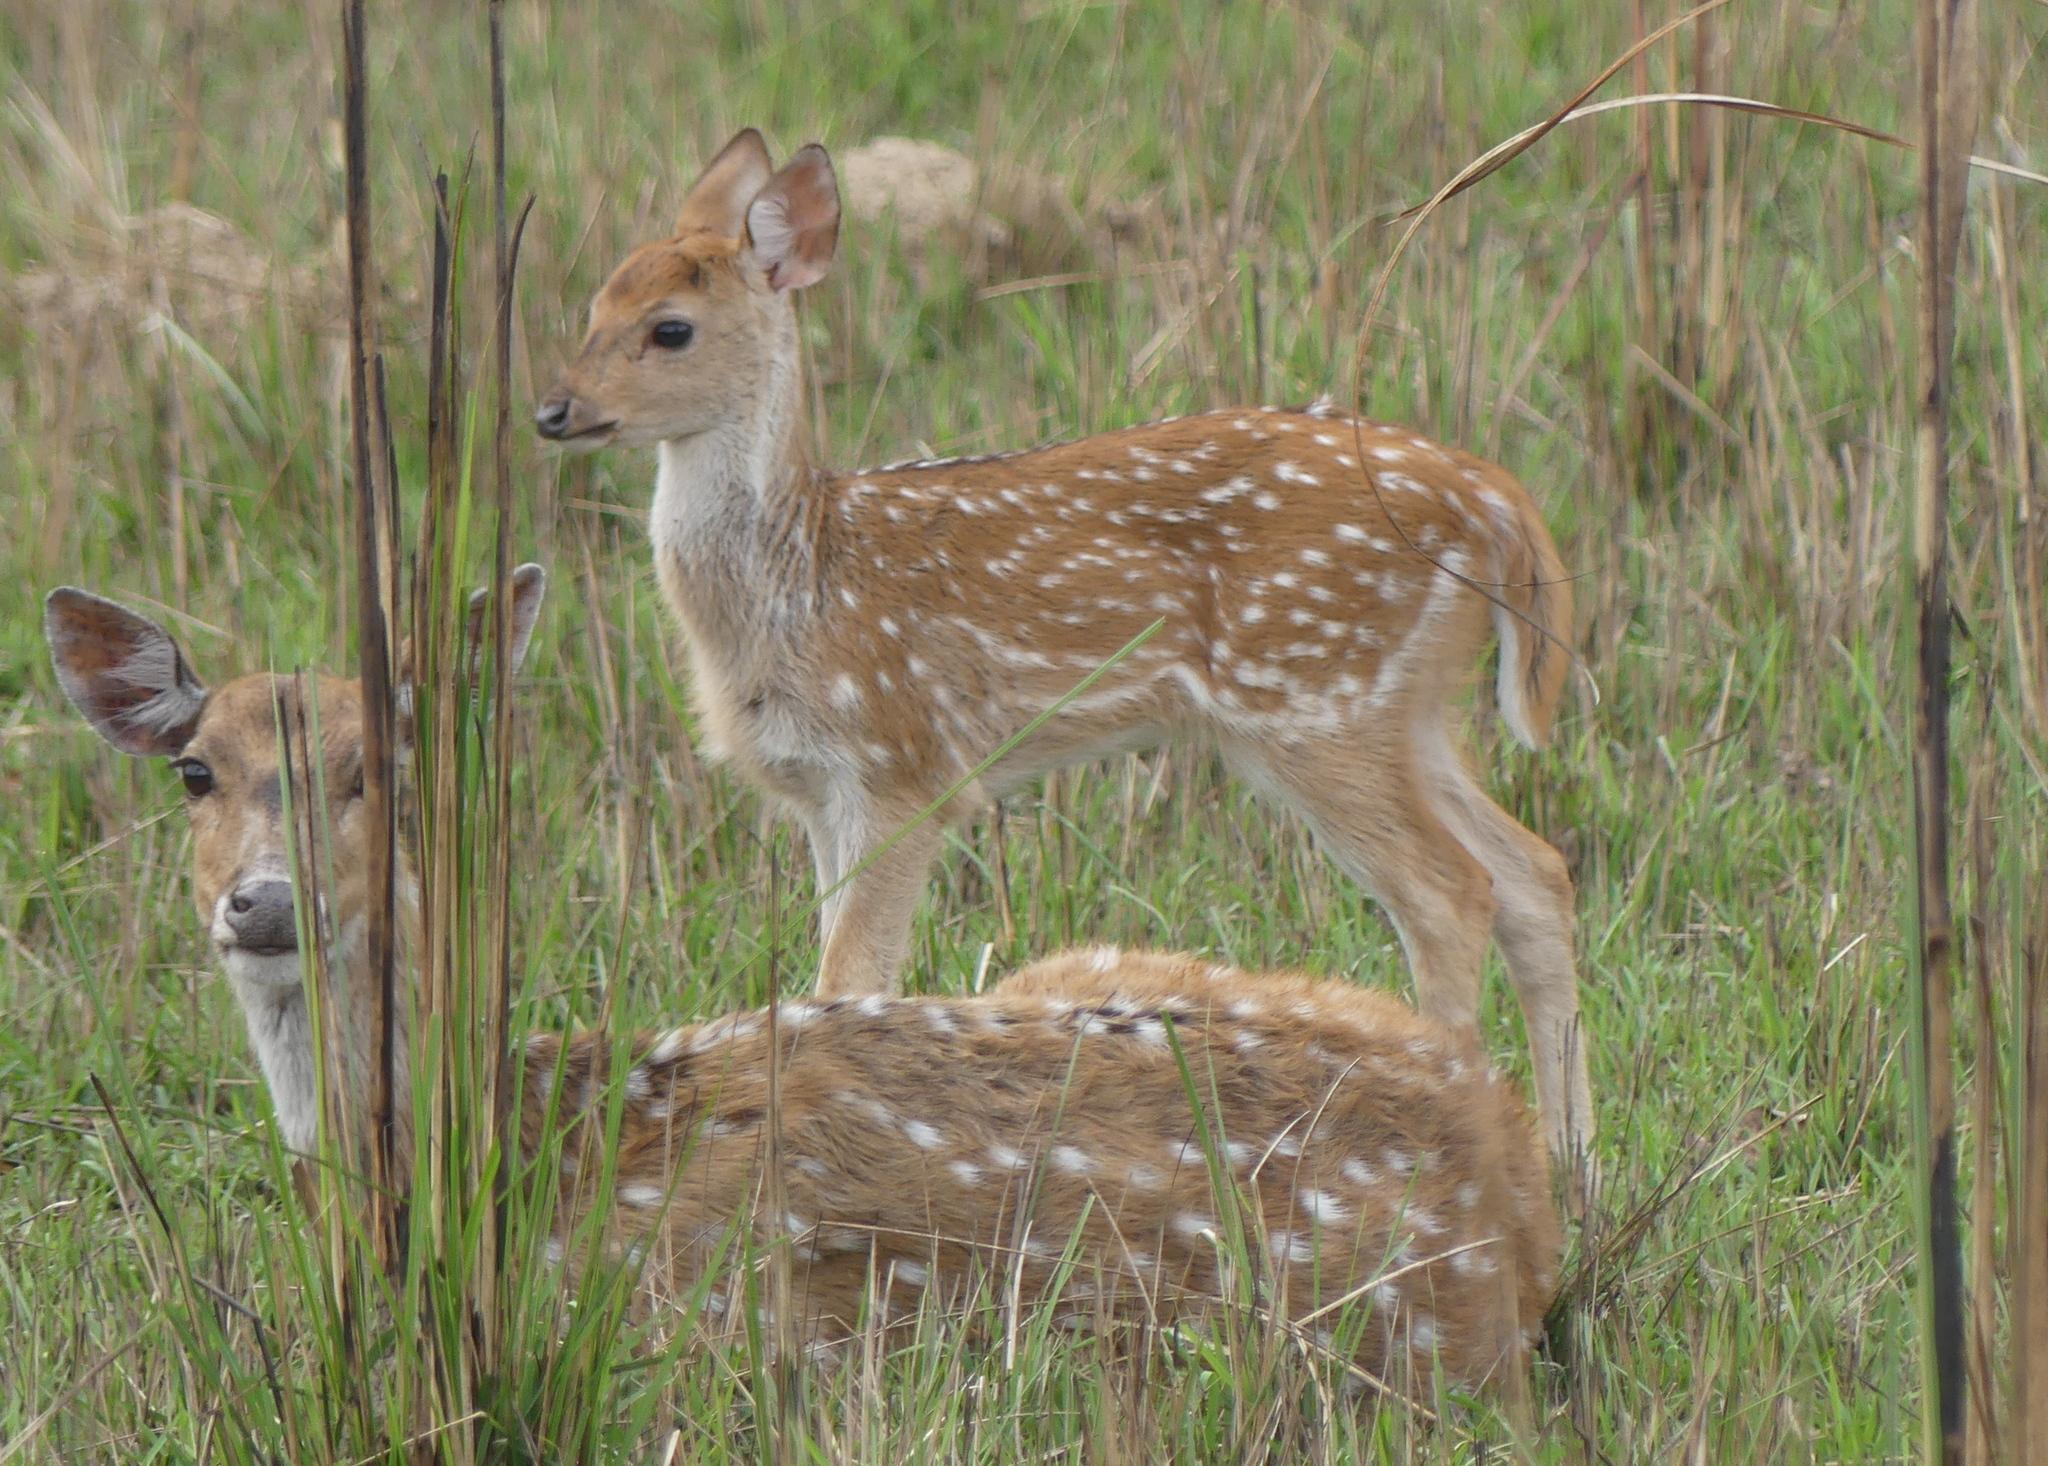Deer: (44, 589, 1559, 1383), (533, 129, 1591, 1157)
